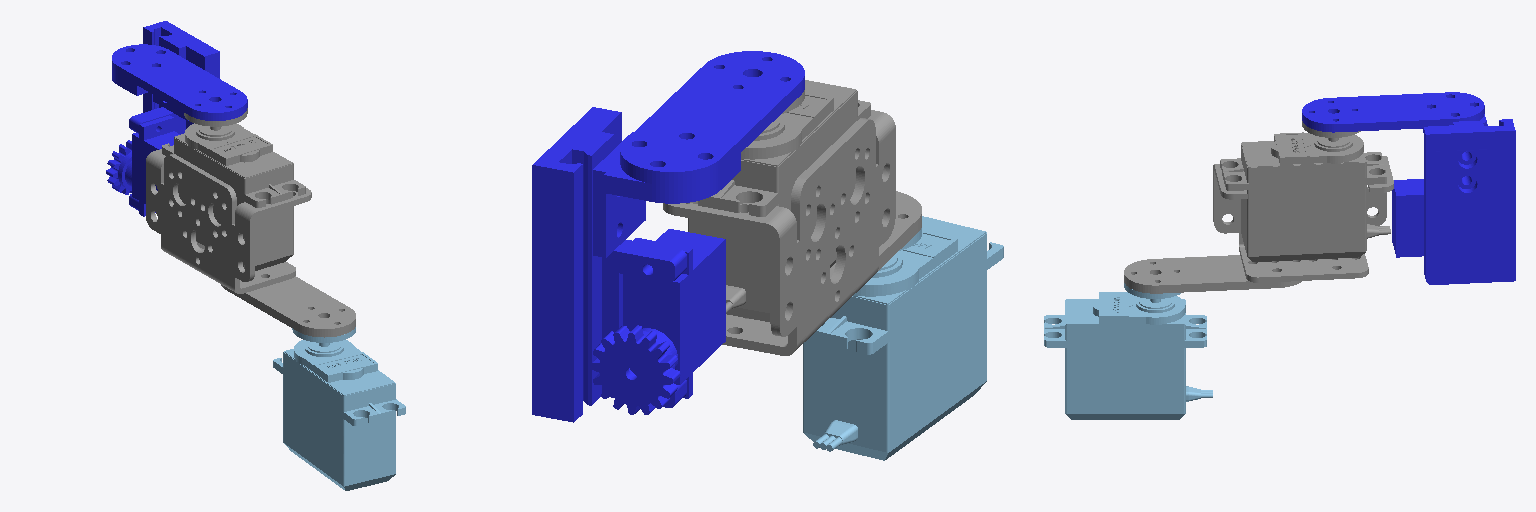
robot.urdf — onshape:
<robot name="onshape">
    <link name="servomg996r">
        <visual>
            <origin xyz="0 0 0" rpy="0 -0 0"/>
            <geometry>
                <mesh filename="package://src/scara_description/meshes/servomg996r.stl"/>
            </geometry>
            <material name="servomg996r_material">
                <color rgba="0.61568627450980395466 0.81176470588235294379 0.92941176470588238168 1.0"/>
            </material>
        </visual>
        <collision>
            <origin xyz="0 0 0" rpy="0 -0 0"/>
            <geometry>
                <mesh filename="package://src/scara_description/meshes/servomg996r.stl"/>
            </geometry>
        </collision>
        <inertial>
            <origin xyz="0 0 0"/>
            <mass value="0"/>
            <inertia ixx="0" ixy="0" ixz="0" iyy="0" iyz="0" izz="0"/>
        </inertial>
    </link>
    <link name="first_link">
        <visual>
            <origin xyz="-7.1557343384043292644e-18 0.0099999999999999915345 0.047499999999999993616"
                    rpy="3.141592653589793116 -0 9.9276377748302604912e-18"/>
            <geometry>
                <mesh filename="package://src/scara_description/meshes/first_link.stl"/>
            </geometry>
            <material name="first_link_material">
                <color rgba="0.64705882352941179736 0.64705882352941179736 0.64705882352941179736 1.0"/>
            </material>
        </visual>
        <collision>
            <origin xyz="-7.1557343384043292644e-18 0.0099999999999999915345 0.047499999999999993616"
                    rpy="3.141592653589793116 -0 9.9276377748302604912e-18"/>
            <geometry>
                <mesh filename="package://src/scara_description/meshes/first_link.stl"/>
            </geometry>
        </collision>
        <inertial>
            <origin xyz="0 0 0"/>
            <mass value="0"/>
            <inertia ixx="0" ixy="0" ixz="0" iyy="0" iyz="0" izz="0"/>
        </inertial>
    </link>
    <link name="second_link">
        <visual>
            <origin xyz="0.00049999999999999740832 0.069749999999999978684 0.1034999999999999809"
                    rpy="3.141592653589793116 -0 7.9615434664501508339e-18"/>
            <geometry>
                <mesh filename="package://src/scara_description/meshes/second_link.stl"/>
            </geometry>
            <material name="second_link_material">
                <color rgba="0.24313725490196078094 0.24313725490196078094 1 1.0"/>
            </material>
        </visual>
        <collision>
            <origin xyz="0.00049999999999999740832 0.069749999999999978684 0.1034999999999999809"
                    rpy="3.141592653589793116 -0 7.9615434664501508339e-18"/>
            <geometry>
                <mesh filename="package://src/scara_description/meshes/second_link.stl"/>
            </geometry>
        </collision>
        <inertial>
            <origin xyz="0 0 0"/>
            <mass value="0"/>
            <inertia ixx="0" ixy="0" ixz="0" iyy="0" iyz="0" izz="0"/>
        </inertial>
    </link>
    <link name="actuator">
        <visual>
            <origin xyz="-0.12158358959999999993 0.017826000000000001566 -0.091630000000000003113"
                    rpy="-2.4987600029461807733e-34 1.1100799929901239999e-16 -1.570796326794896558"/>
            <geometry>
                <mesh filename="package://src/scara_description/meshes/actuator.stl"/>
            </geometry>
            <material name="actuator_material">
                <color rgba="0.50196078431372548323 1 0.50196078431372548323 1.0"/>
            </material>
        </visual>
        <collision>
            <origin xyz="-0.12158358959999999993 0.017826000000000001566 -0.091630000000000003113"
                    rpy="-2.4987600029461807733e-34 1.1100799929901239999e-16 -1.570796326794896558"/>
            <geometry>
                <mesh filename="package://src/scara_description/meshes/actuator.stl"/>
            </geometry>
        </collision>
        <inertial>
            <origin xyz="0 0 0"/>
            <mass value="0"/>
            <inertia ixx="0" ixy="0" ixz="0" iyy="0" iyz="0" izz="0"/>
        </inertial>
    </link>
    <joint name="slider_actuator" type="prismatic">
        <origin xyz="0.018325999999999991602 -0.051833589599999993491 0.018598077114628464024"
                rpy="-3.141592653589793116 -5.1171304803077346007e-18 -1.5707963267948961139"/>
        <parent link="second_link"/>
        <child link="actuator"/>
        <axis xyz="0 0 1"/>
        <limit effort="1" velocity="20"/>
        <joint_properties friction="0.0"/>
    </joint>
    <joint name="joint2" type="revolute">
        <origin xyz="-0.00050000000000000304617 -0.059750000000000011435 -0.055999999999999987288"
                rpy="1.7662033618514959478e-21 2.5217203946365817101e-22 -5.465863304373380401e-15"/>
        <parent link="first_link"/>
        <child link="second_link"/>
        <axis xyz="0 0 1"/>
        <limit effort="1" velocity="20"/>
        <joint_properties friction="0.0"/>
    </joint>
    <joint name="joint1" type="revolute">
        <origin xyz="6.505213034913026604e-18 0.0099999999999999915345 0.047499999999999993616"
                rpy="3.141592653589793116 2.4637214511932053286e-22 0.10904934252795142613"/>
        <parent link="servomg996r"/>
        <child link="first_link"/>
        <axis xyz="0 0 1"/>
        <limit effort="1" velocity="20"/>
        <joint_properties friction="0.0"/>
    </joint>
</robot>

--- Facts derived from the render (not from the file) ---
Views: 3 orthographic renders of the robot side by side, from view 1: azimuth 30°, elevation 25°; view 2: azimuth 150°, elevation 25°; view 3: azimuth 270°, elevation 25°.
Robot: onshape — 4 links, 3 joints (2 revolute, 1 prismatic); root link servomg996r; default pose: all joints at 0.
Links seen in each view (by area): view 1: first_link, servomg996r, second_link; view 2: second_link, first_link, servomg996r; view 3: first_link, second_link, servomg996r.
Boxes of the visible links, box(x1,y1,x2,y2) form: first_link: box(146, 108, 355, 337); servomg996r: box(273, 327, 405, 490); second_link: box(106, 21, 247, 216); second_link: box(532, 51, 804, 422); first_link: box(663, 80, 921, 355); servomg996r: box(803, 216, 1003, 460); first_link: box(1124, 121, 1393, 293); second_link: box(1302, 92, 1515, 284); servomg996r: box(1044, 283, 1212, 419).
Size in the robot's own frame: 0.0358 by 0.1569 by 0.1069 metres.
3 mesh visuals loaded from 4 distinct referenced files (3 binary STL); not drawn: 1 (reference not matched to a file when rendering).